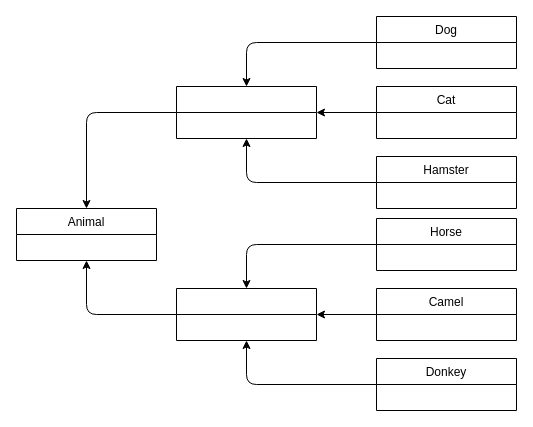
Some shapes in this 533 by 427 pixel diagram are drawn without their labels. Each missing label, with the centre of its shape:
Home_Animal: (x=246, y=112)
Packed Animal: (x=246, y=314)
